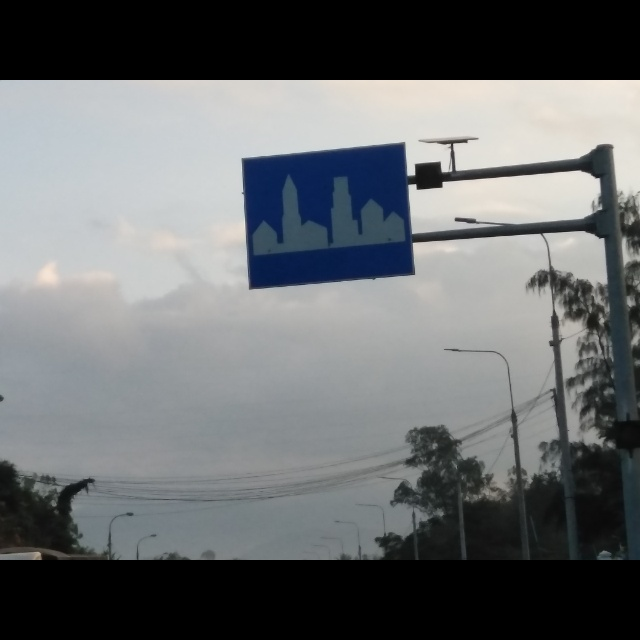Khu đông dân cư: (240, 141, 421, 294)
